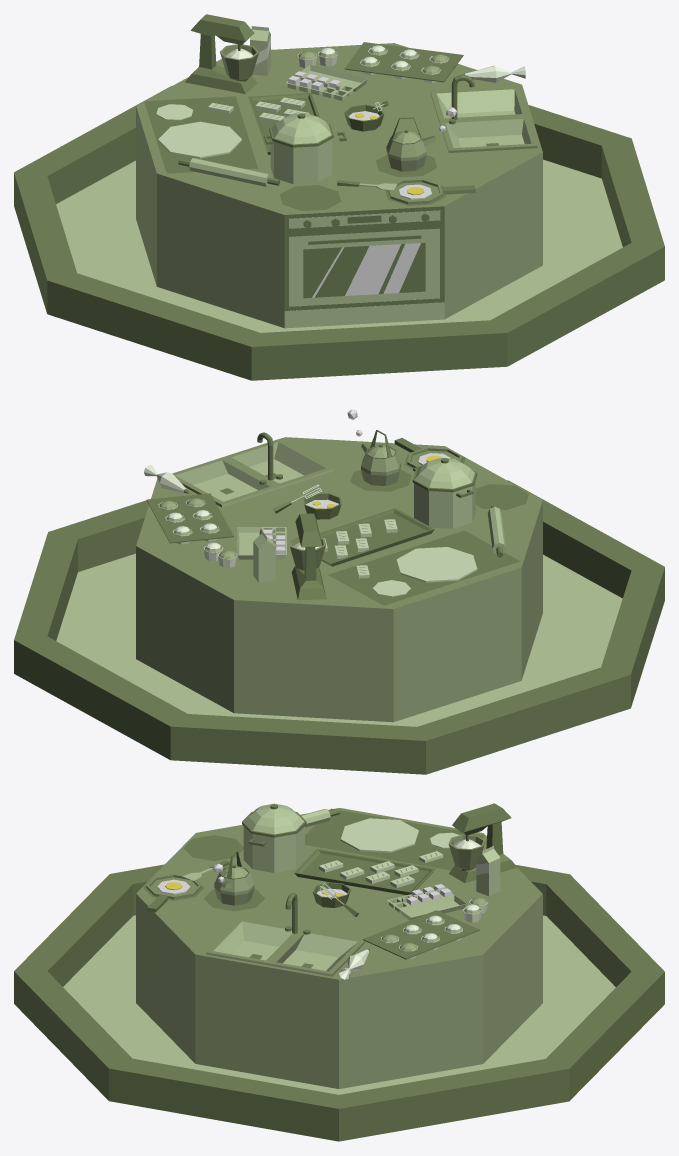
Rendered from baking.glb.
3 renders of one model, top to bottom at view 1: azimuth 30°, elevation 25°; view 2: azimuth 150°, elevation 25°; view 3: azimuth 270°, elevation 25°, orthographic. The views are drawn at different scales.
Parts seen in each view (by area): view 1: main, cupcake, omlette, rollingpin; view 2: main, cupcake, omlette, rollingpin; view 3: main, cupcake, omlette.
Part boxes in pixels (x1,y1,x2,y2): main: (14,14,664,380); cupcake: (344,42,463,82); omlette: (388,178,475,205); rollingpin: (178,158,280,186); main: (14,409,664,774); cupcake: (146,493,233,544); omlette: (394,438,462,467); rollingpin: (487,505,506,557); main: (14,803,664,1141); cupcake: (363,910,479,959); omlette: (146,874,201,912).
Bounding box in the file's own units: 2 × 0.5862 × 2.
